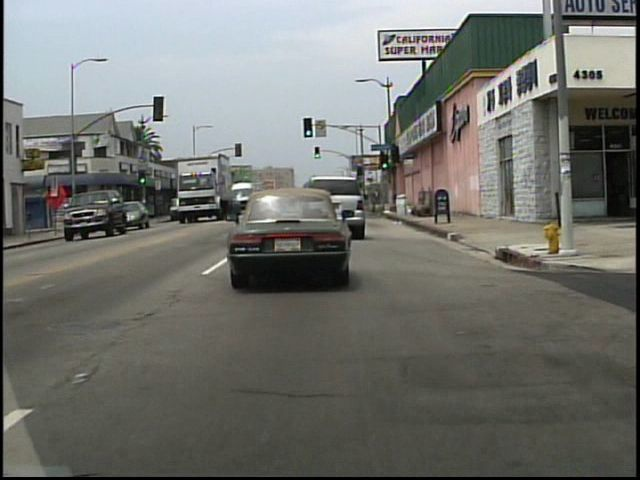person: (77, 204, 88, 228)
